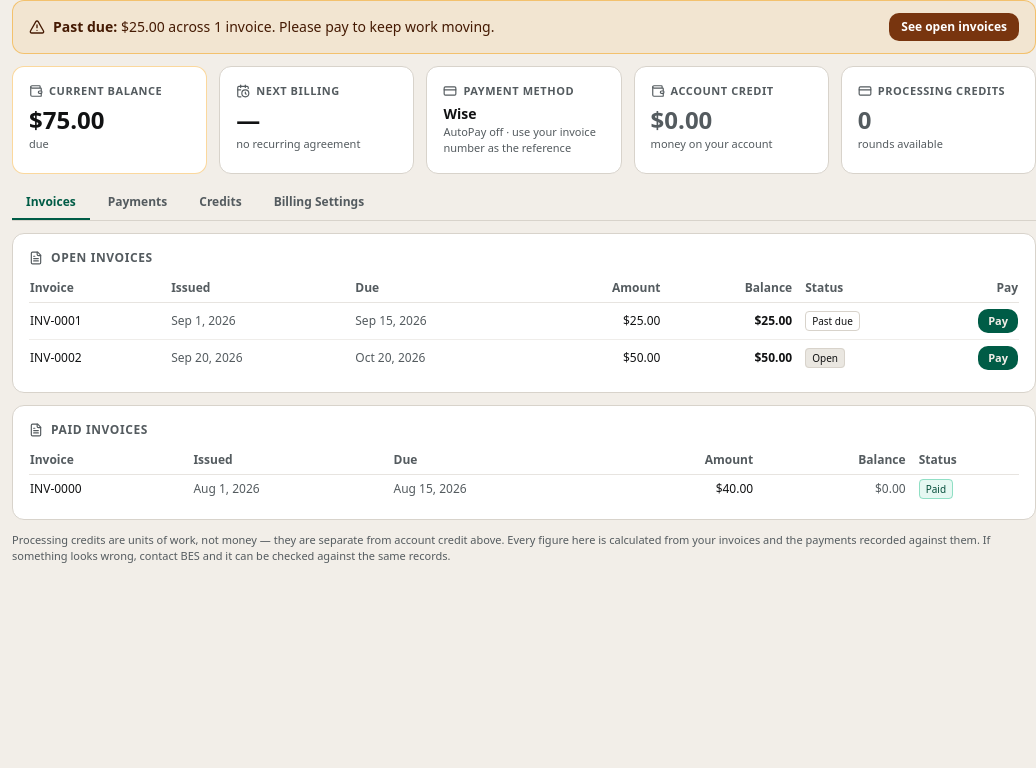
Test: the partner's Billing page › names the billing contact in Billing settings
Click the button "Billing settings" at point(319, 202), box [260,186,378,220]
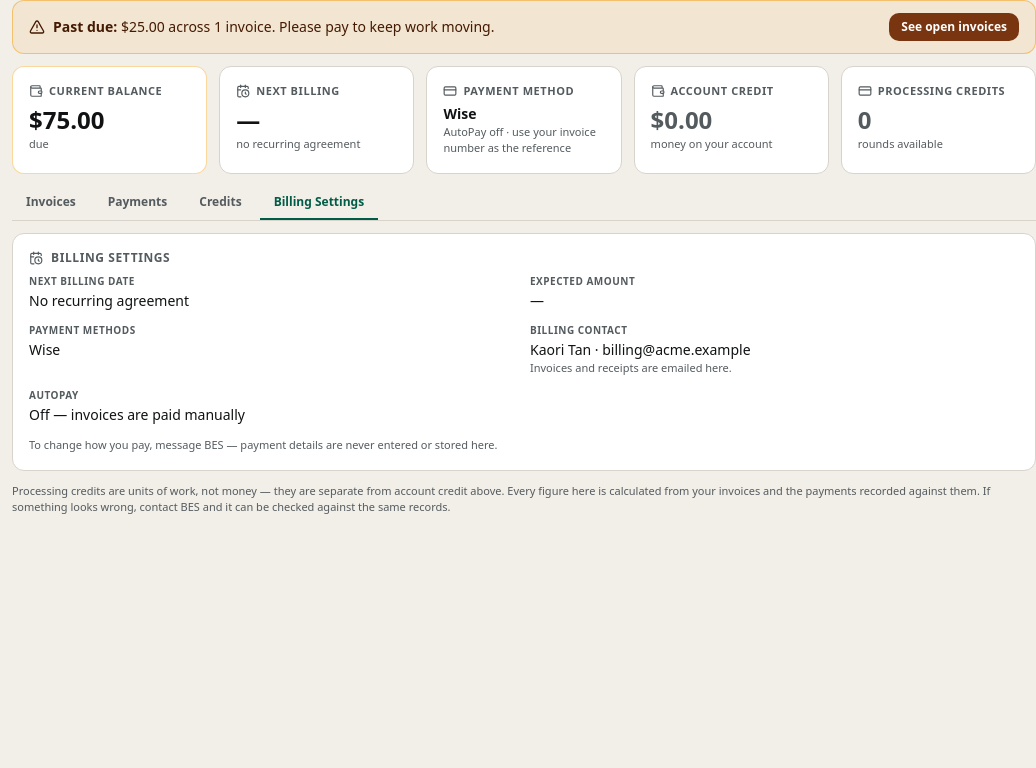
Now the text "Kaori Tan · billing@acme.example" is shown, box [530,340,750,358]
